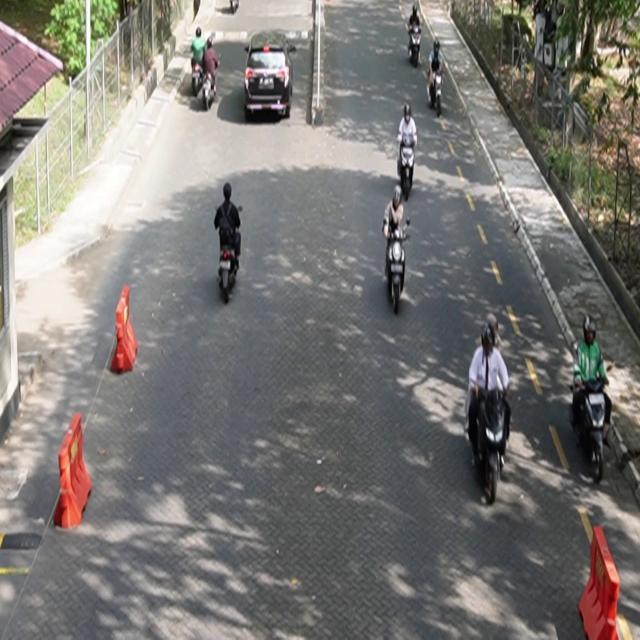car: (244, 30, 298, 120)
